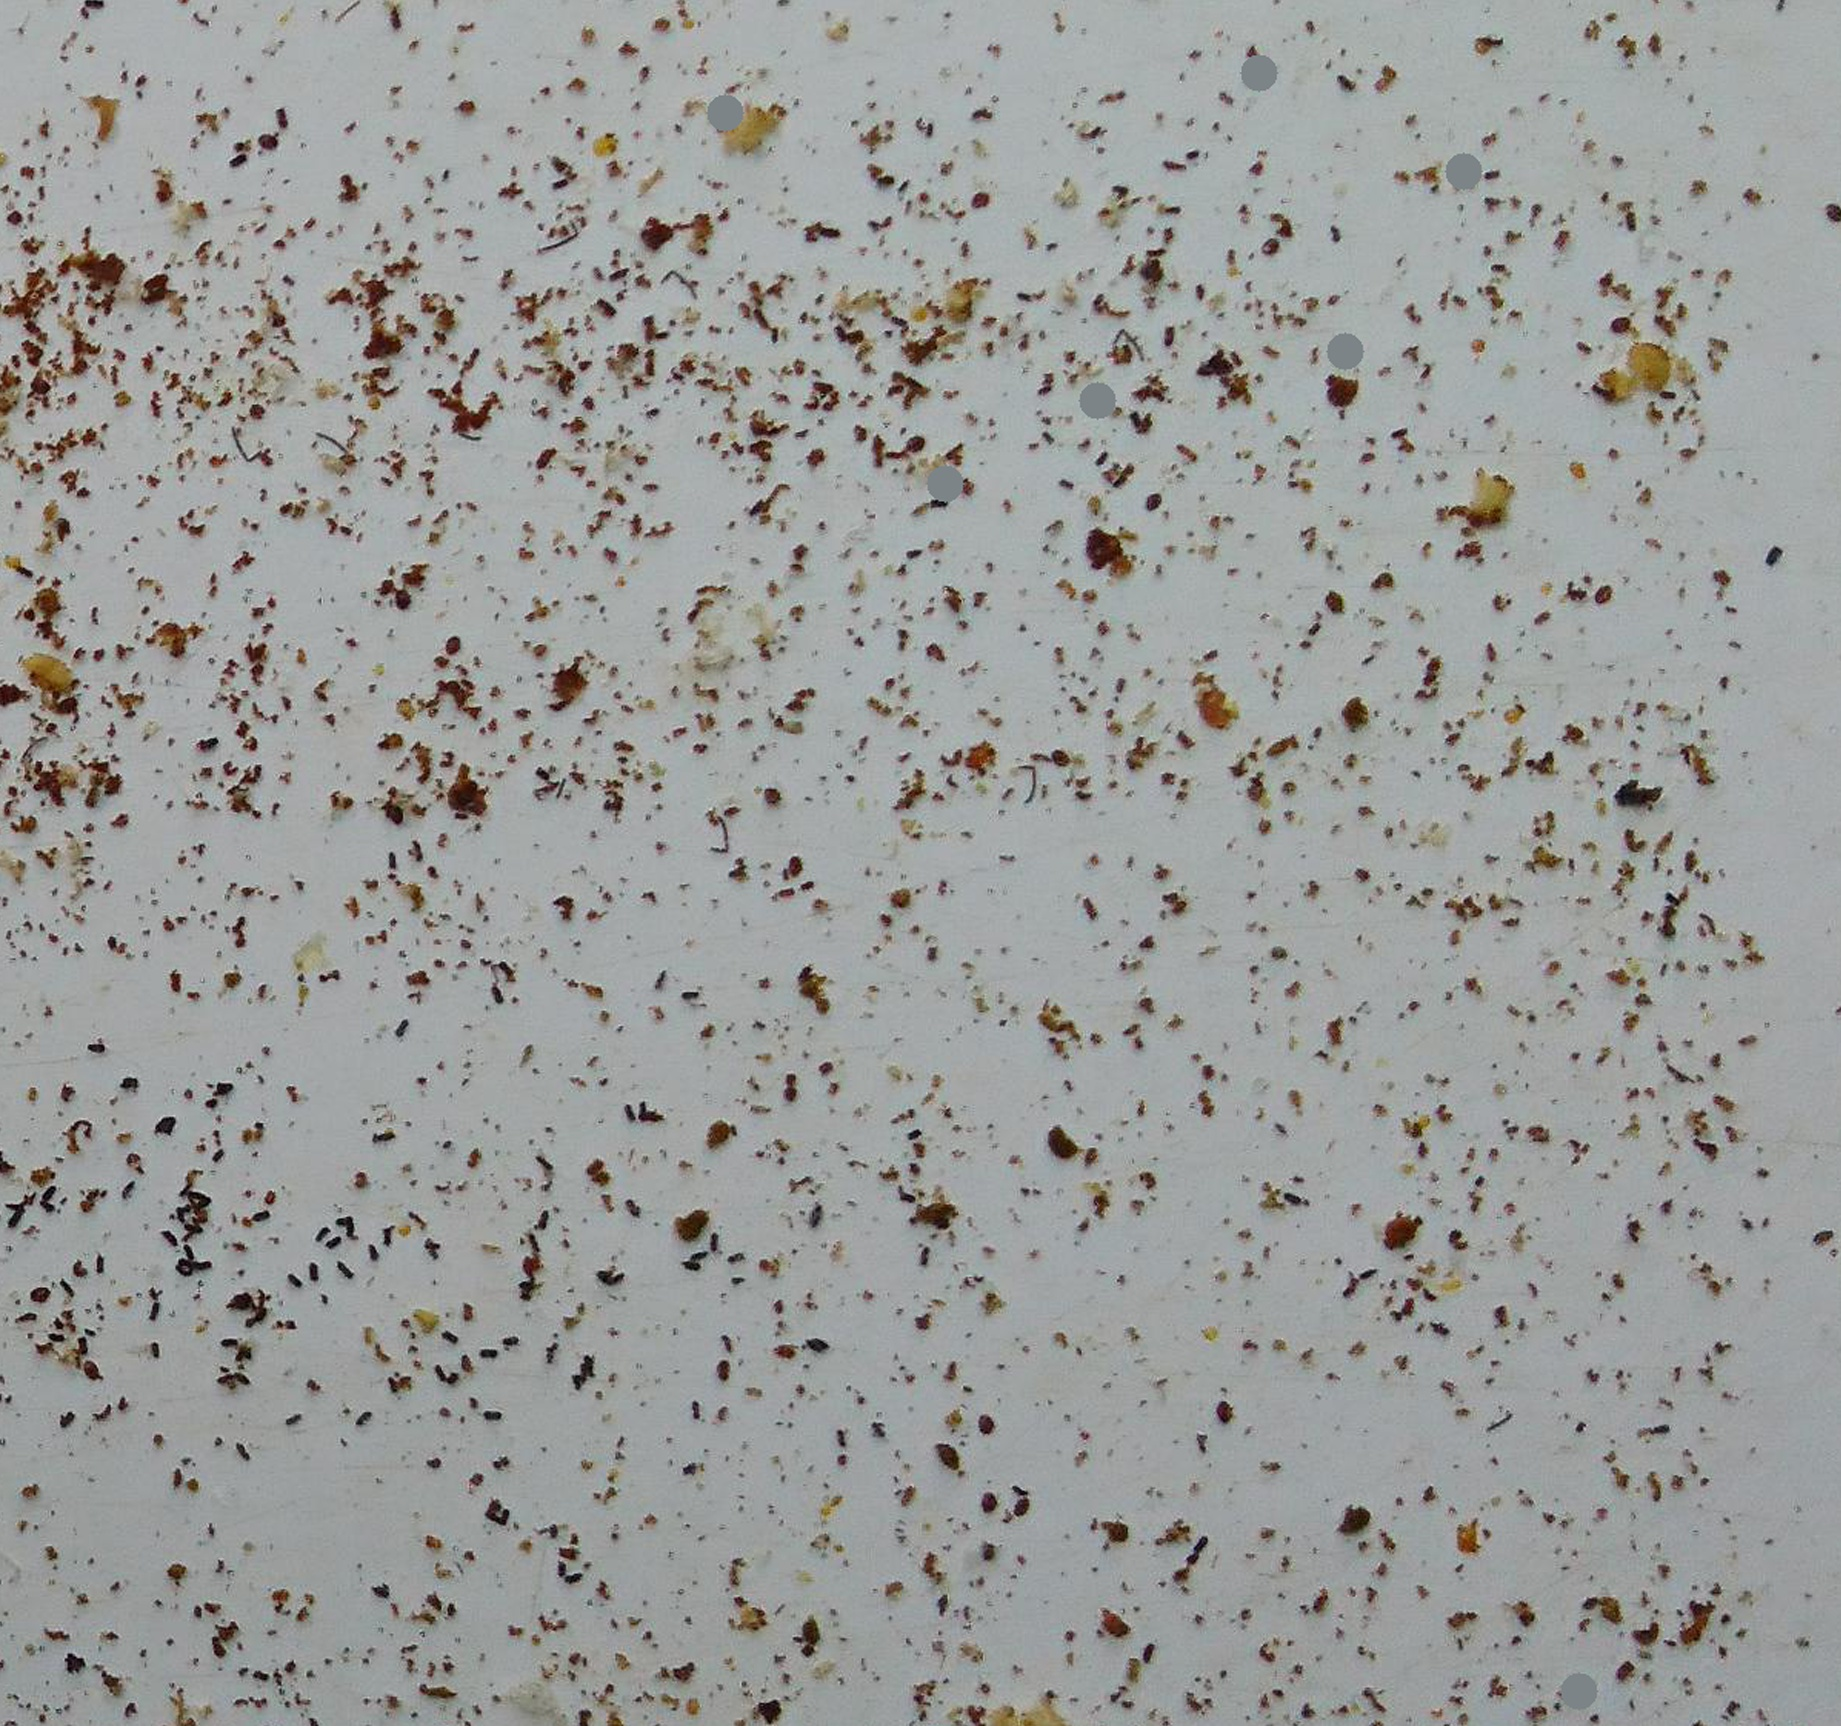Varroa: (960, 183, 1006, 227), (696, 1340, 741, 1384), (1598, 315, 1625, 342), (256, 130, 282, 156), (1006, 1494, 1032, 1518), (441, 634, 466, 659), (1213, 1402, 1238, 1426), (389, 586, 414, 610), (759, 785, 783, 809), (1142, 485, 1166, 509), (28, 1282, 54, 1304), (782, 861, 805, 886), (81, 1355, 104, 1377), (1260, 238, 1283, 261), (903, 431, 926, 454), (978, 1491, 1002, 1512), (383, 796, 404, 821), (972, 1410, 993, 1432), (1590, 581, 1614, 600), (805, 451, 827, 470)
